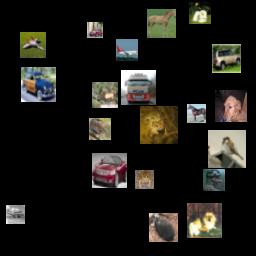airplane: (20, 32, 46, 58), (116, 39, 138, 61), (6, 205, 25, 224)
automobile: (21, 67, 56, 102), (92, 153, 127, 188), (212, 44, 241, 73), (87, 22, 103, 38)
bird: (208, 130, 246, 168), (149, 213, 178, 242), (203, 169, 225, 191), (89, 118, 111, 140)
deer: (92, 82, 118, 108)
dog: (187, 203, 222, 238), (215, 90, 247, 122), (189, 2, 211, 24)
frog: (140, 106, 178, 144), (135, 170, 154, 189)
truck: (121, 70, 156, 105)
